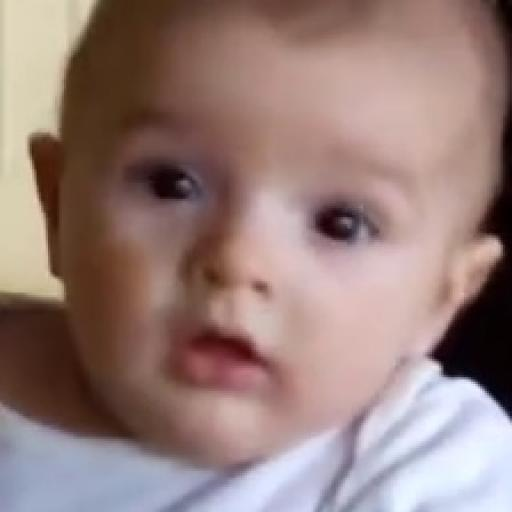Autism: (61, 2, 512, 512)
